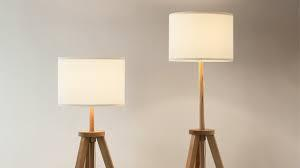Lamp: (164, 4, 252, 168), (53, 54, 130, 168)
